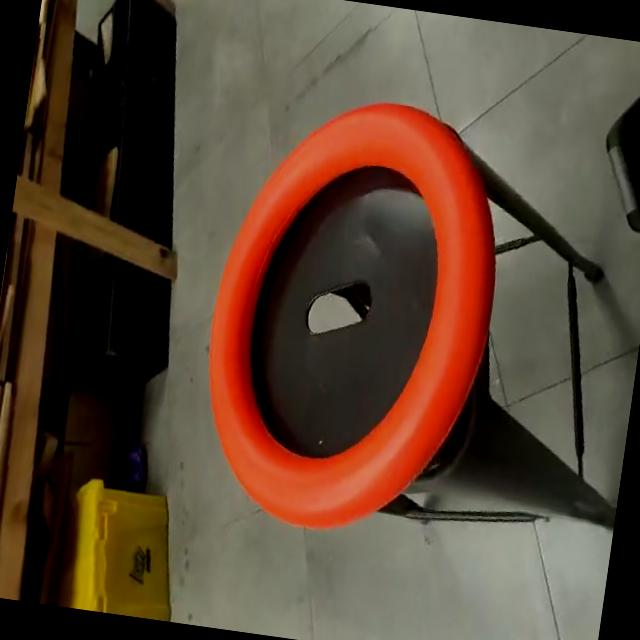note: (182, 78, 522, 551)
